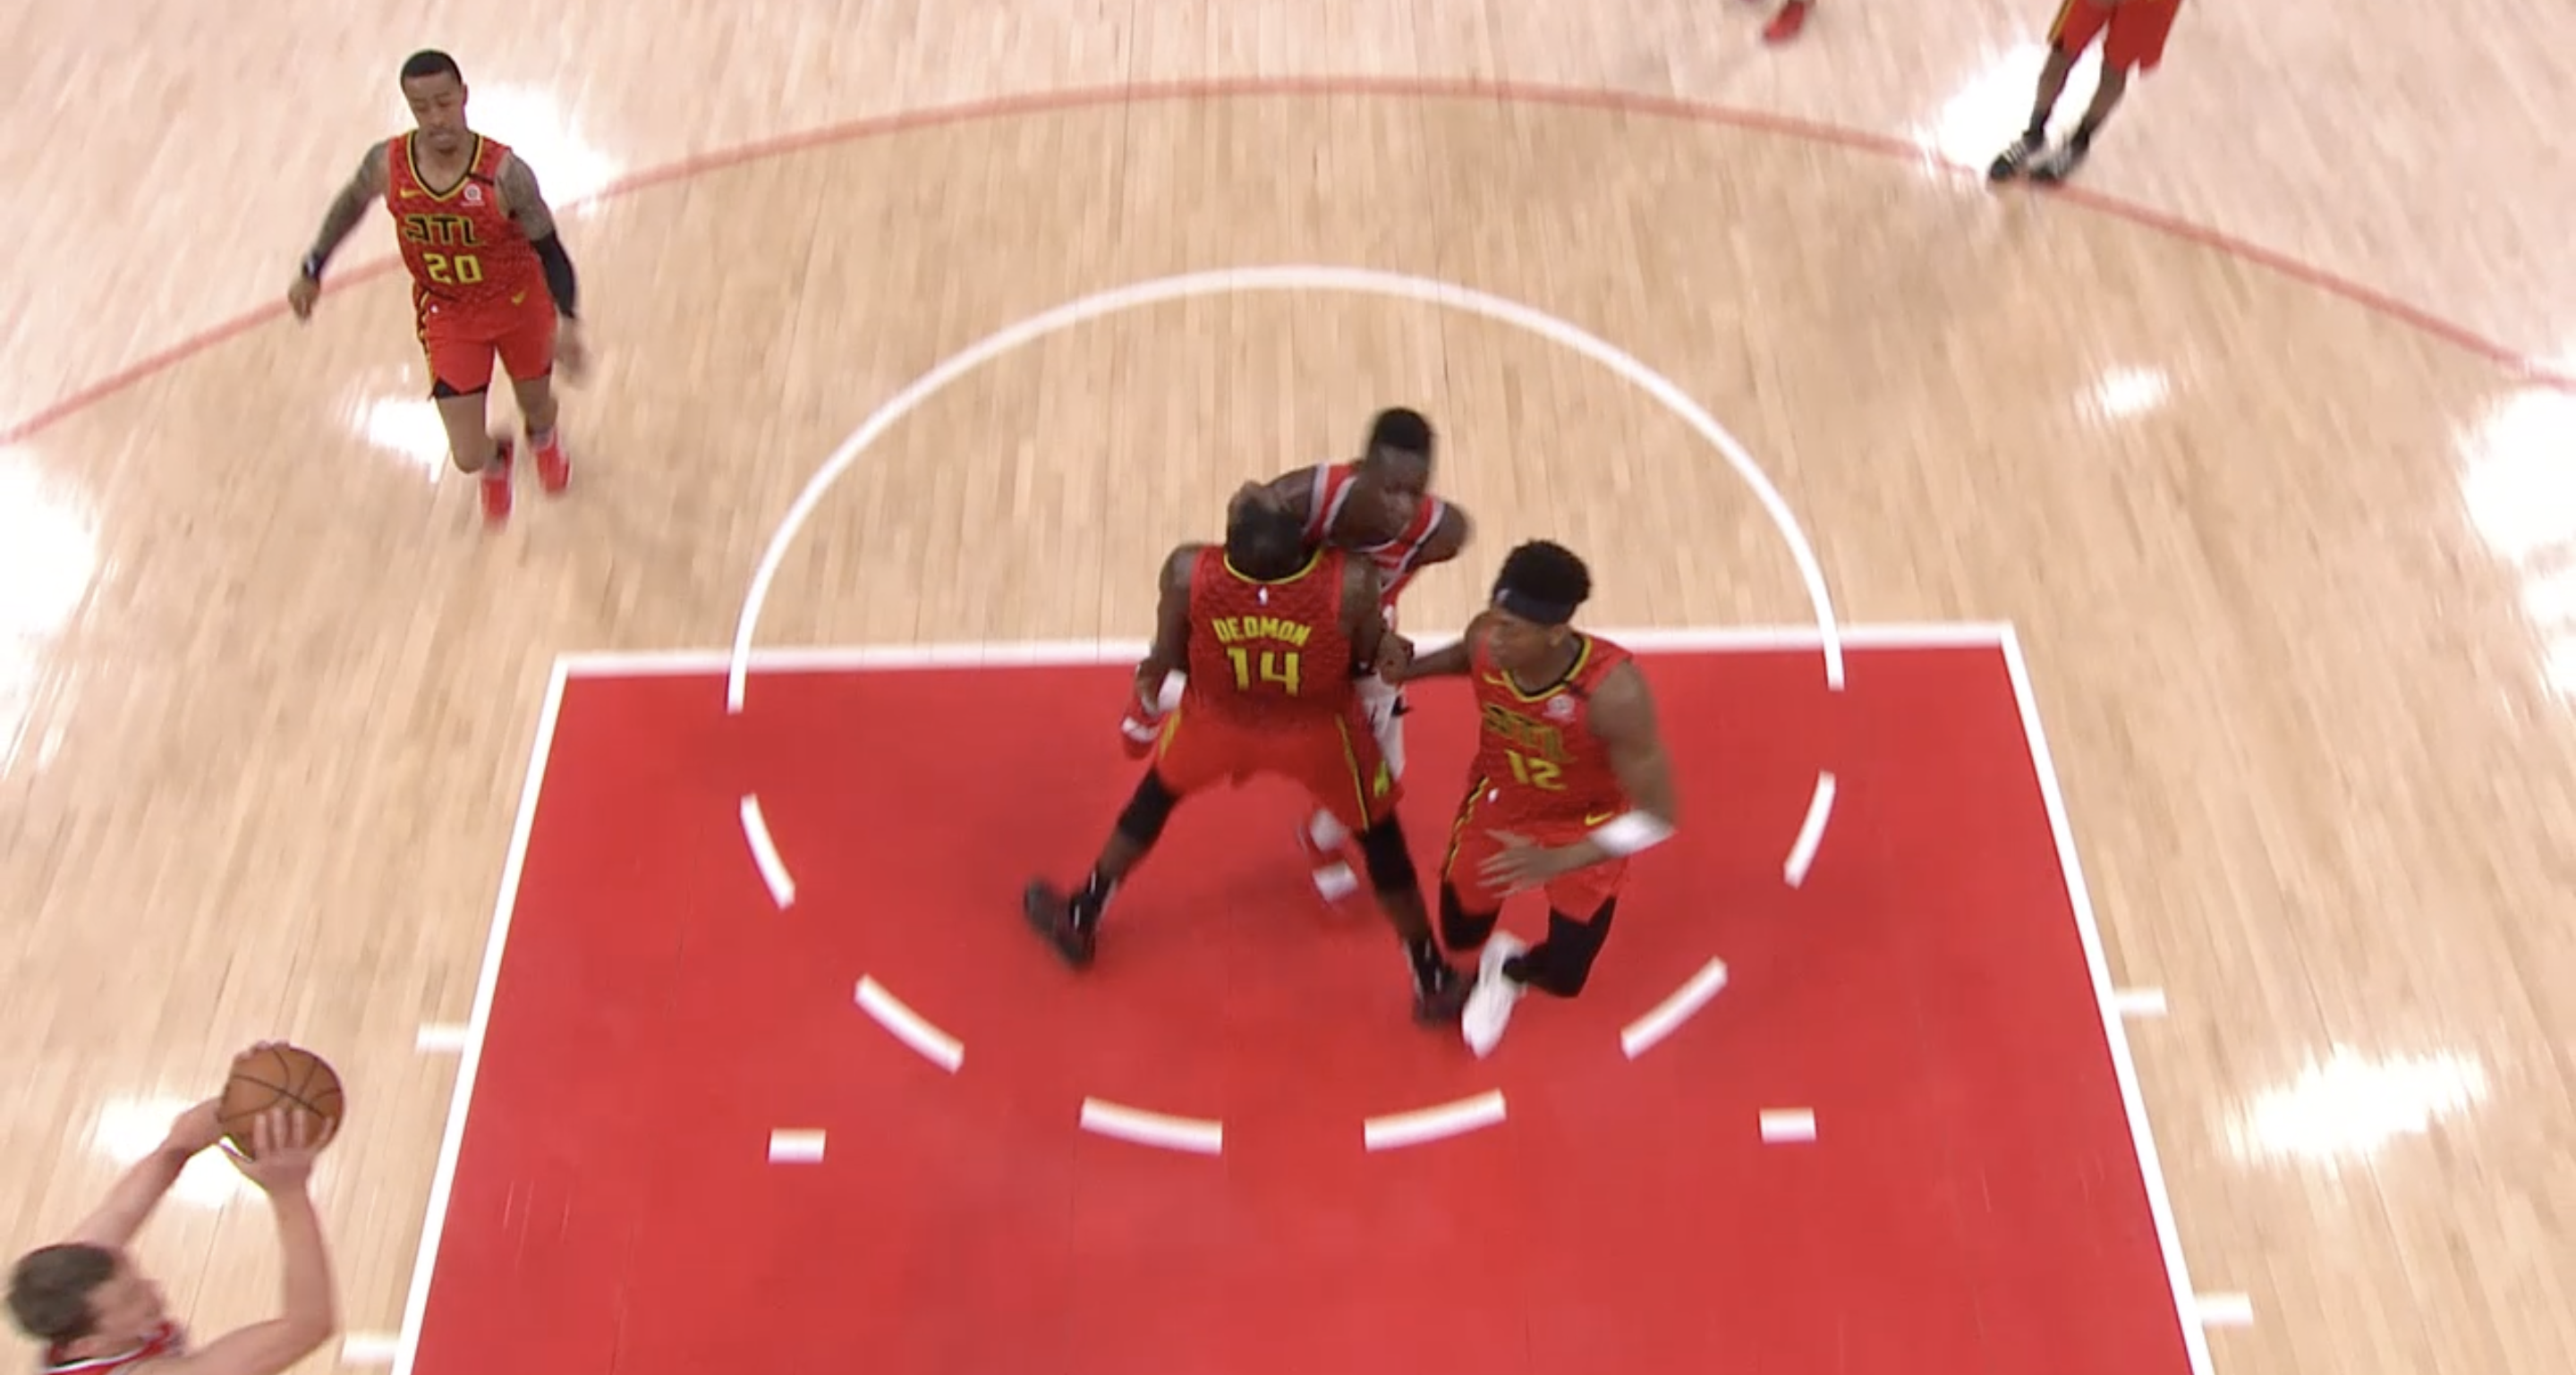Foul: (1058, 395, 1448, 1055)
